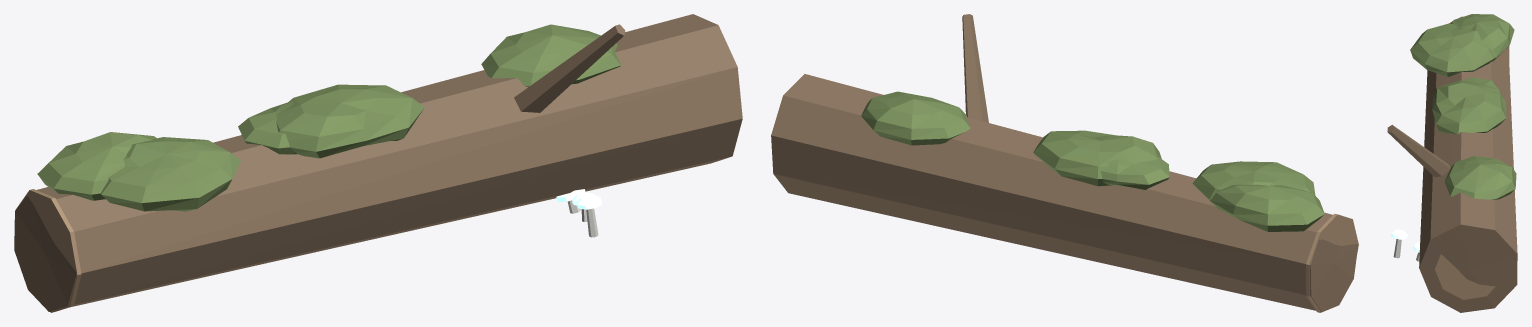
File: log_fallen.glb
The picture shows the model from 3 angles, left to right: view 1: azimuth 30°, elevation 25°; view 2: azimuth 150°, elevation 25°; view 3: azimuth 270°, elevation 25°; orthographic projection. The views are drawn at different scales.
Visible parts, largest first — view 1: log_fallen; view 2: log_fallen; view 3: log_fallen.
Part boxes in pixels (box(x1,y1,x2,y2)): log_fallen: box(14, 14, 742, 312); log_fallen: box(771, 14, 1358, 312); log_fallen: box(1387, 14, 1517, 312).
Size of what is drawn, in the model's own units: 3.26 by 0.9849 by 0.8272.
